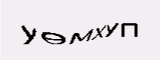А: (104, 24, 121, 49)
Н: (47, 23, 65, 51)
Р: (92, 26, 105, 53)
Х: (66, 27, 79, 49)
Я: (78, 32, 92, 51)
